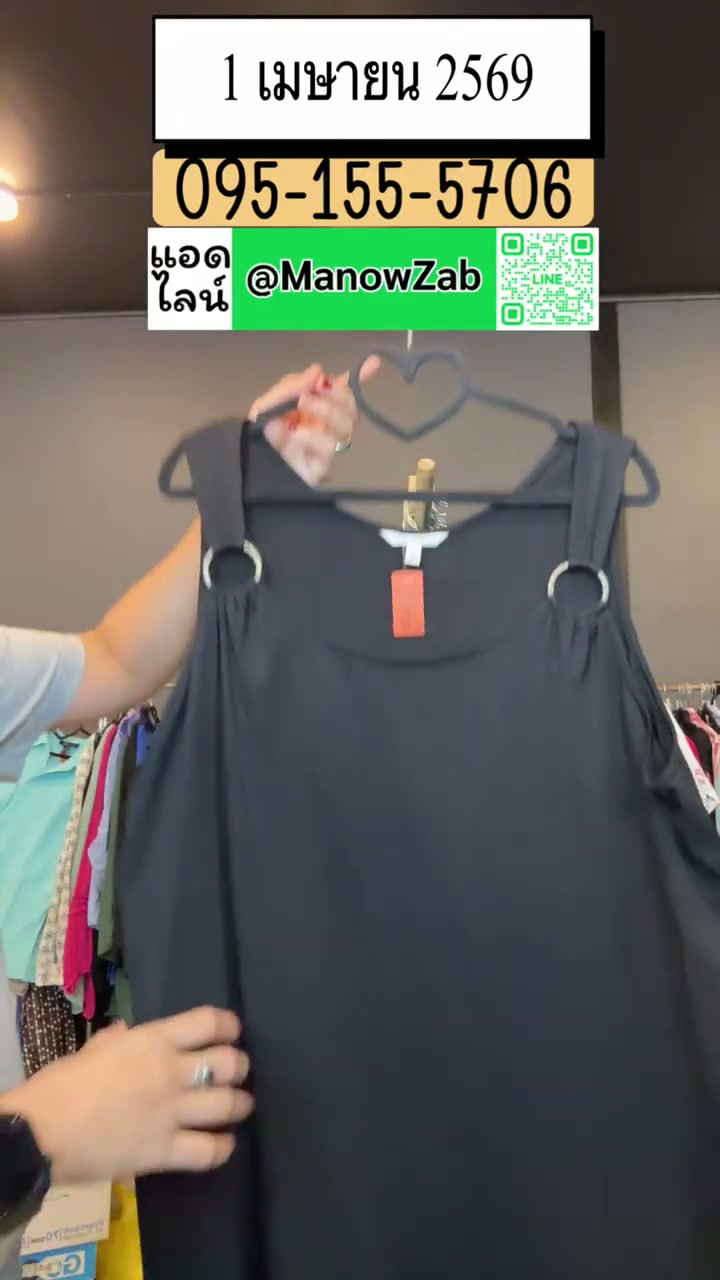display_shirt: (115, 379, 719, 1279)
